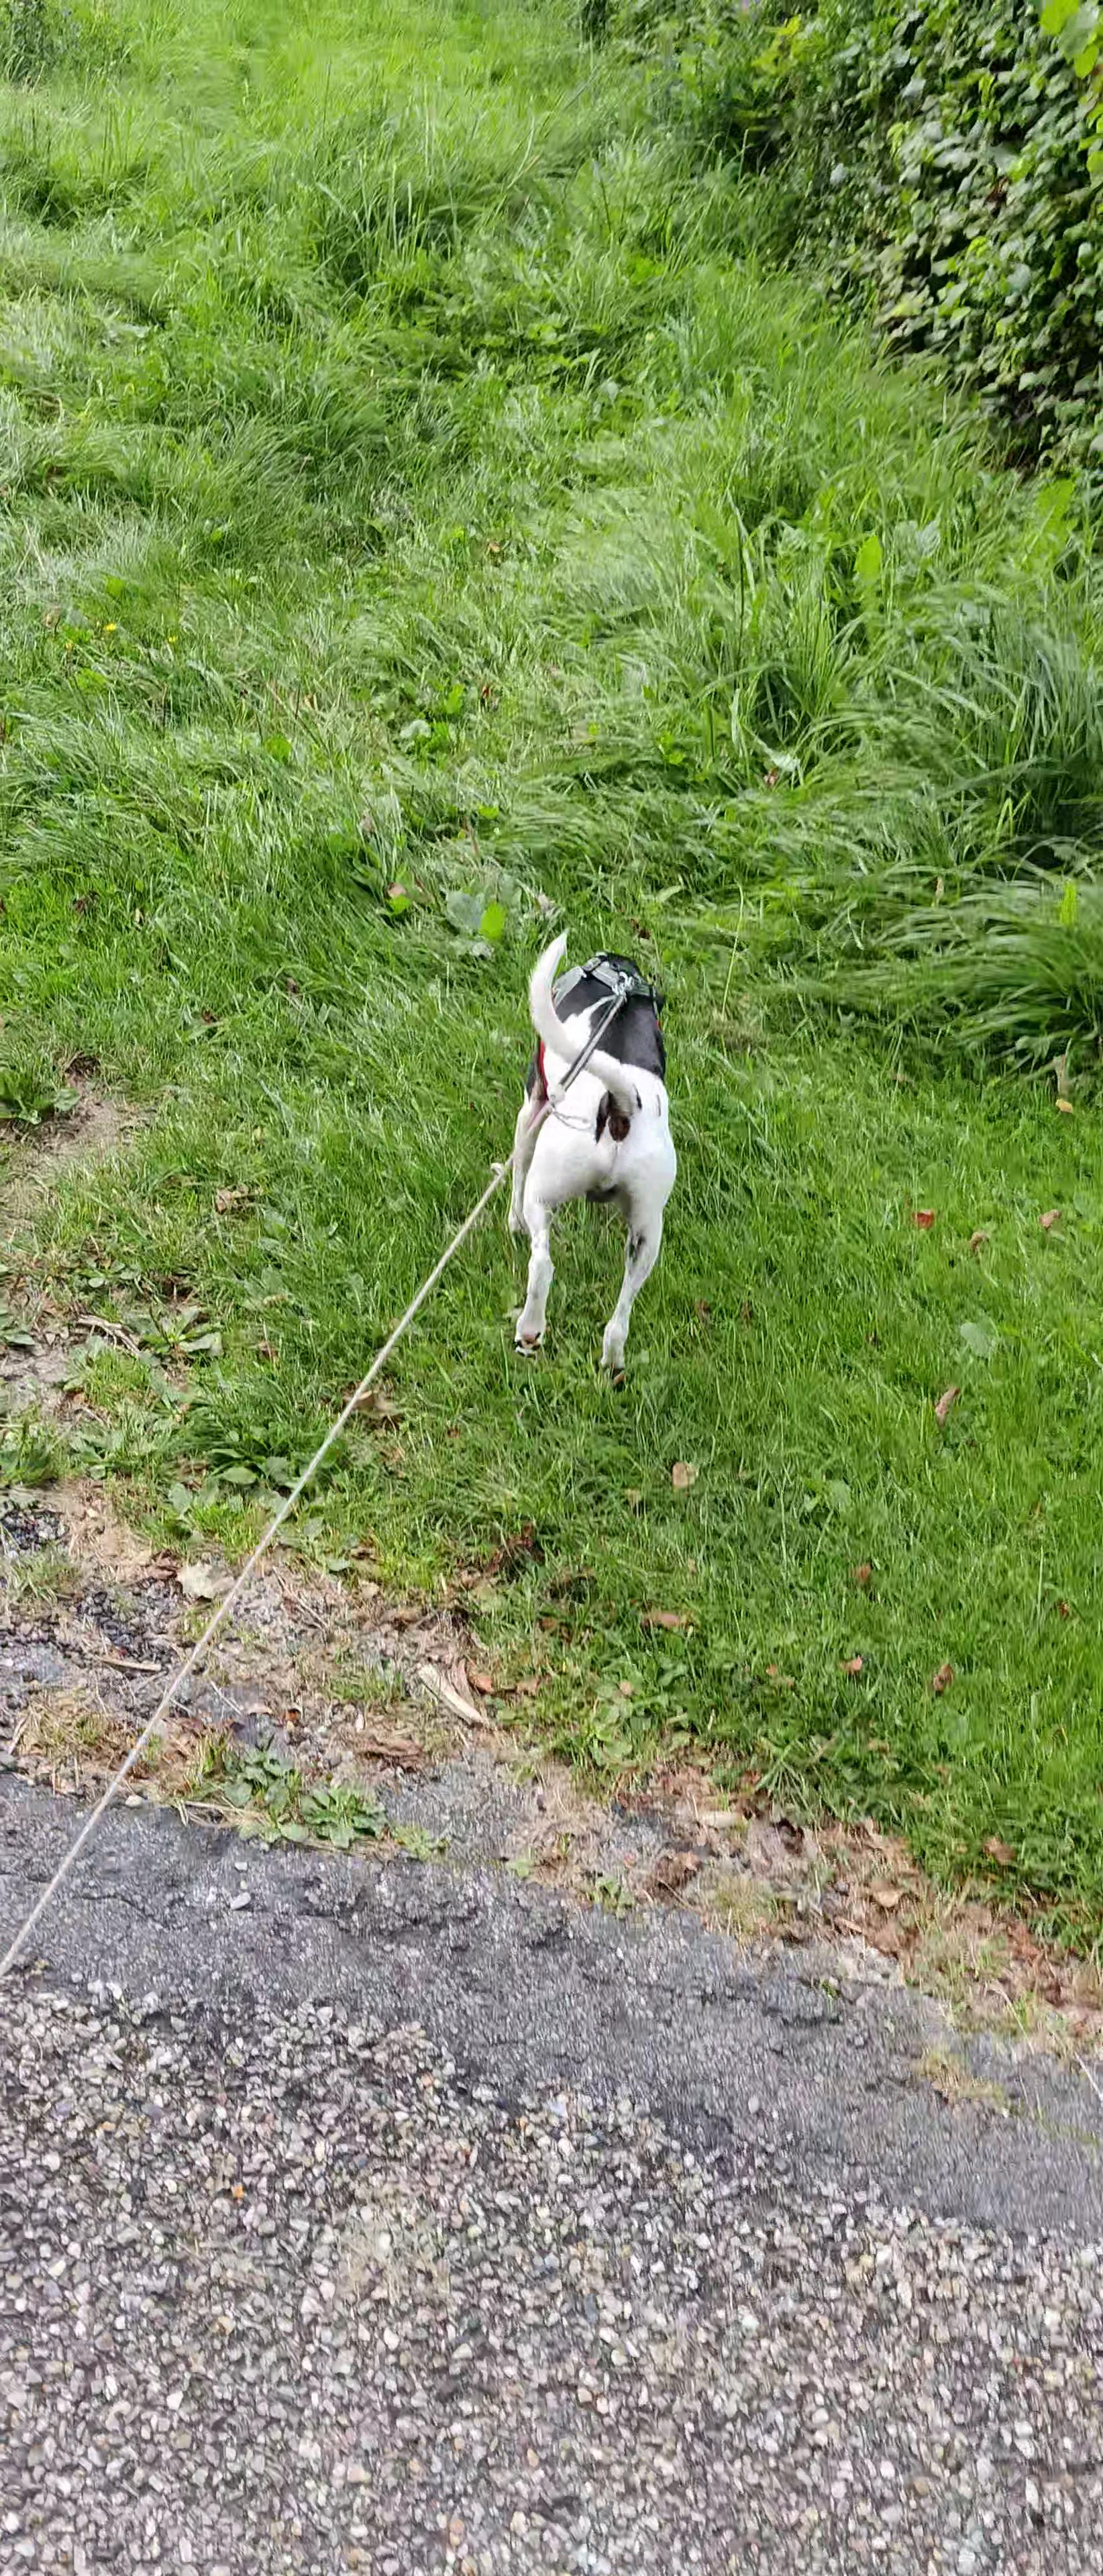Dog: (501, 927, 682, 1375)
